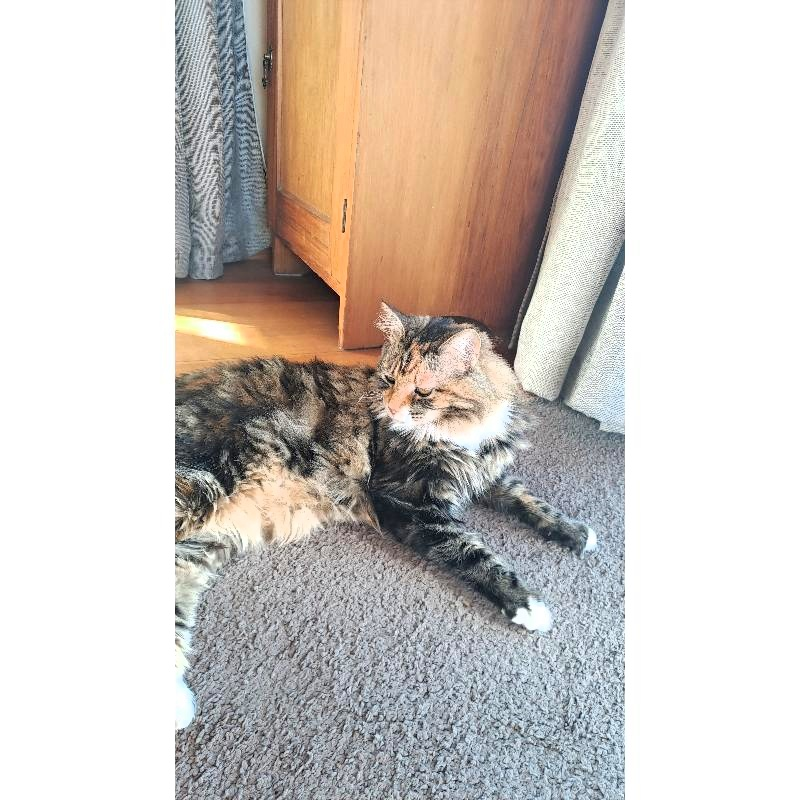red: (176, 305, 594, 733)
